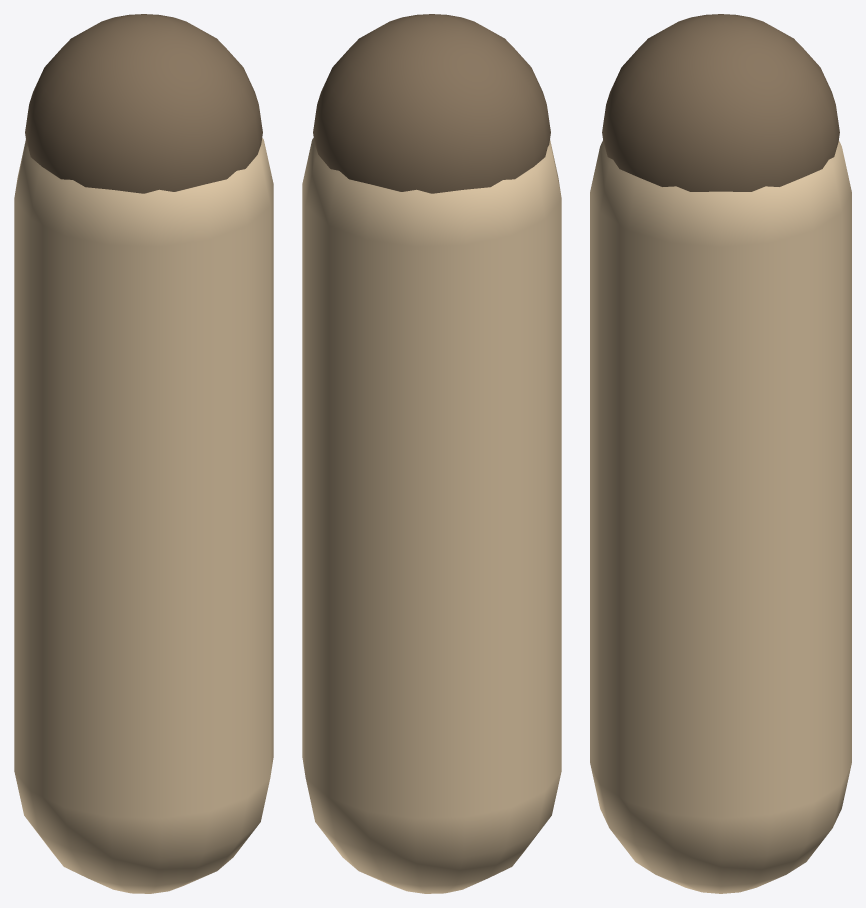
File: doll_UpperArm_L.glb
The picture shows the model from 3 angles, left to right: view 1: azimuth 30°, elevation 25°; view 2: azimuth 150°, elevation 25°; view 3: azimuth 270°, elevation 25°; orthographic projection.
Visible parts, largest first — view 1: UpperArm_L; view 2: UpperArm_L; view 3: UpperArm_L.
Boxes of the visible parts, box(x1,y1,x2,y2) form: UpperArm_L: box(14, 14, 273, 893); UpperArm_L: box(302, 14, 561, 893); UpperArm_L: box(590, 14, 851, 893).
Bounding box in the file's own units: 0.11 × 0.3975 × 0.11.
